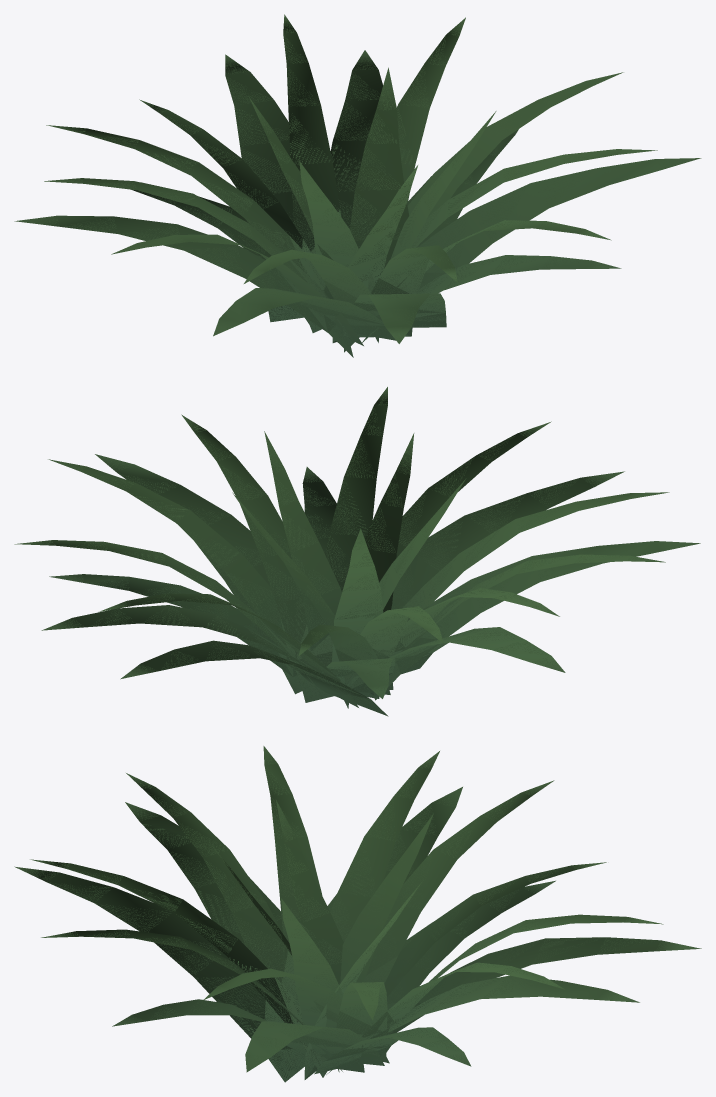
The model's file is grass.fbx.
3 renders of one model, top to bottom at view 1: azimuth 30°, elevation 25°; view 2: azimuth 150°, elevation 25°; view 3: azimuth 270°, elevation 25°, orthographic.
Parts seen in each view (by area): view 1: Cube.609; view 2: Cube.609; view 3: Cube.609.
Part boxes in pixels (x1=…): Cube.609: x1=14, y1=14, x2=701, y2=357; Cube.609: x1=14, y1=387, x2=700, y2=716; Cube.609: x1=14, y1=746, x2=701, y2=1082.
Size of the model in its own units: 155 by 55.23 by 157.
